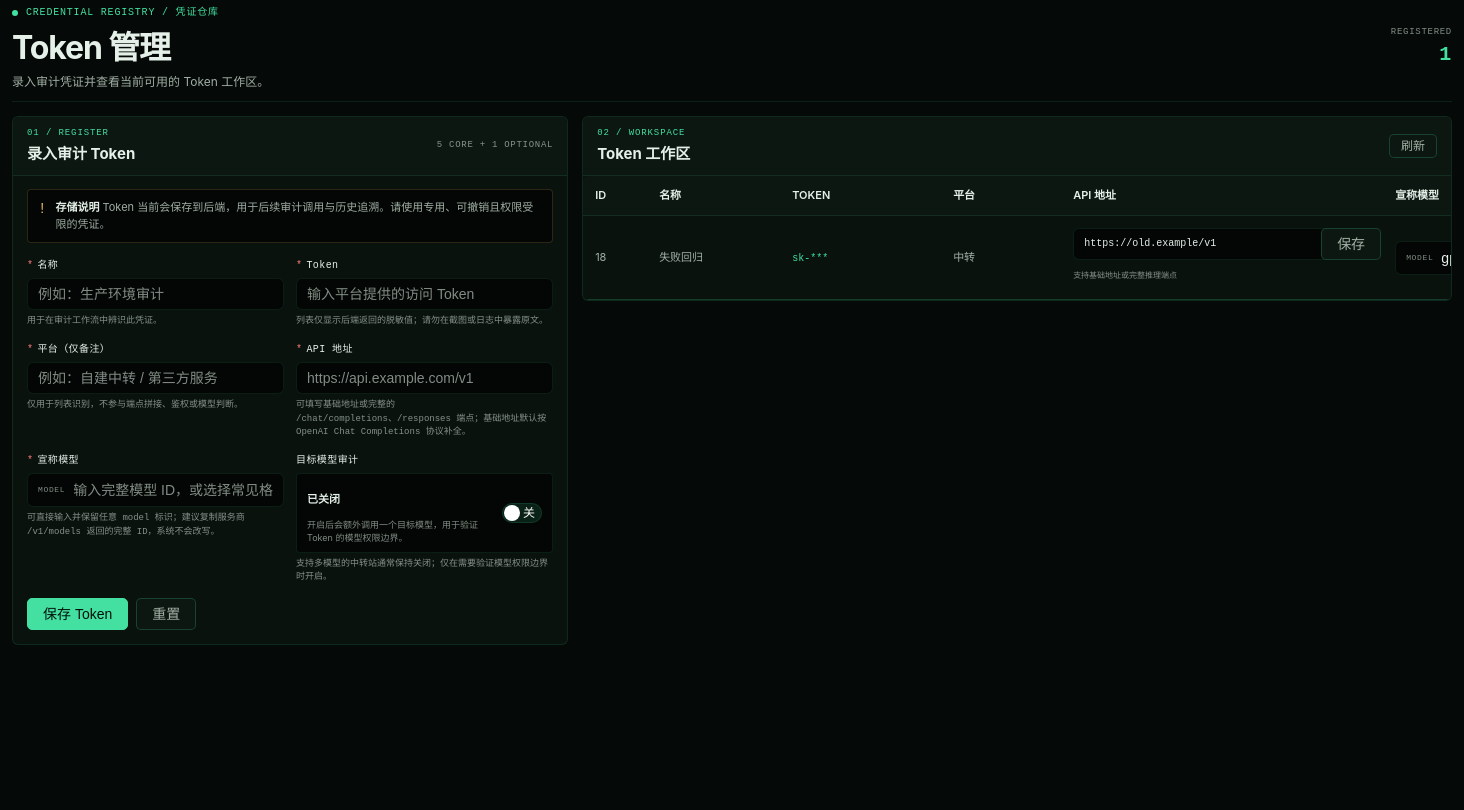
TokenManager › restores the previous API URL when an update fails
Replace the text in the 1st field with "https://new.example/v1". click: [1202, 244]
box: [1084, 229, 1320, 259]
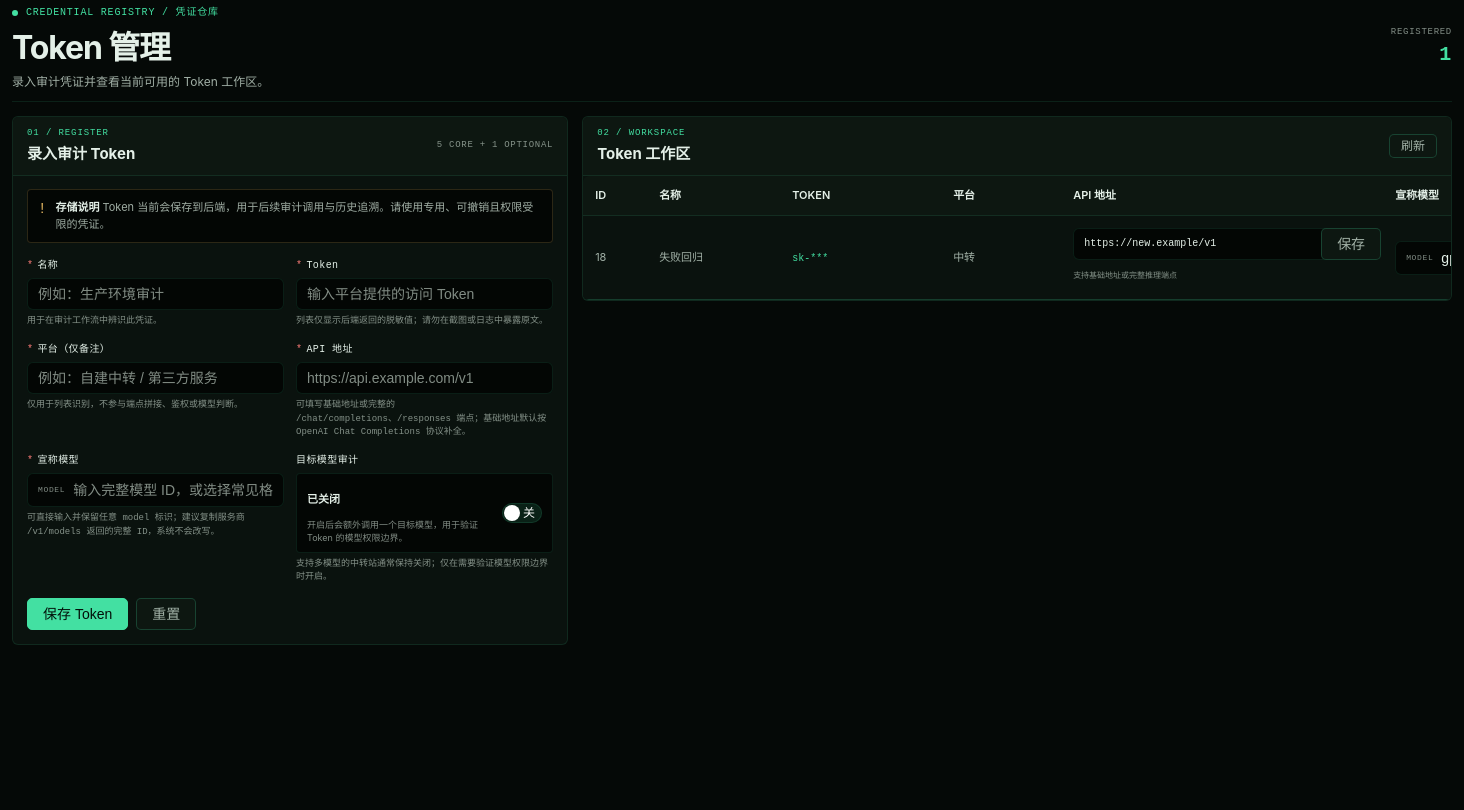
Click the button "保存". click: [1351, 244]
box: [1321, 228, 1381, 260]
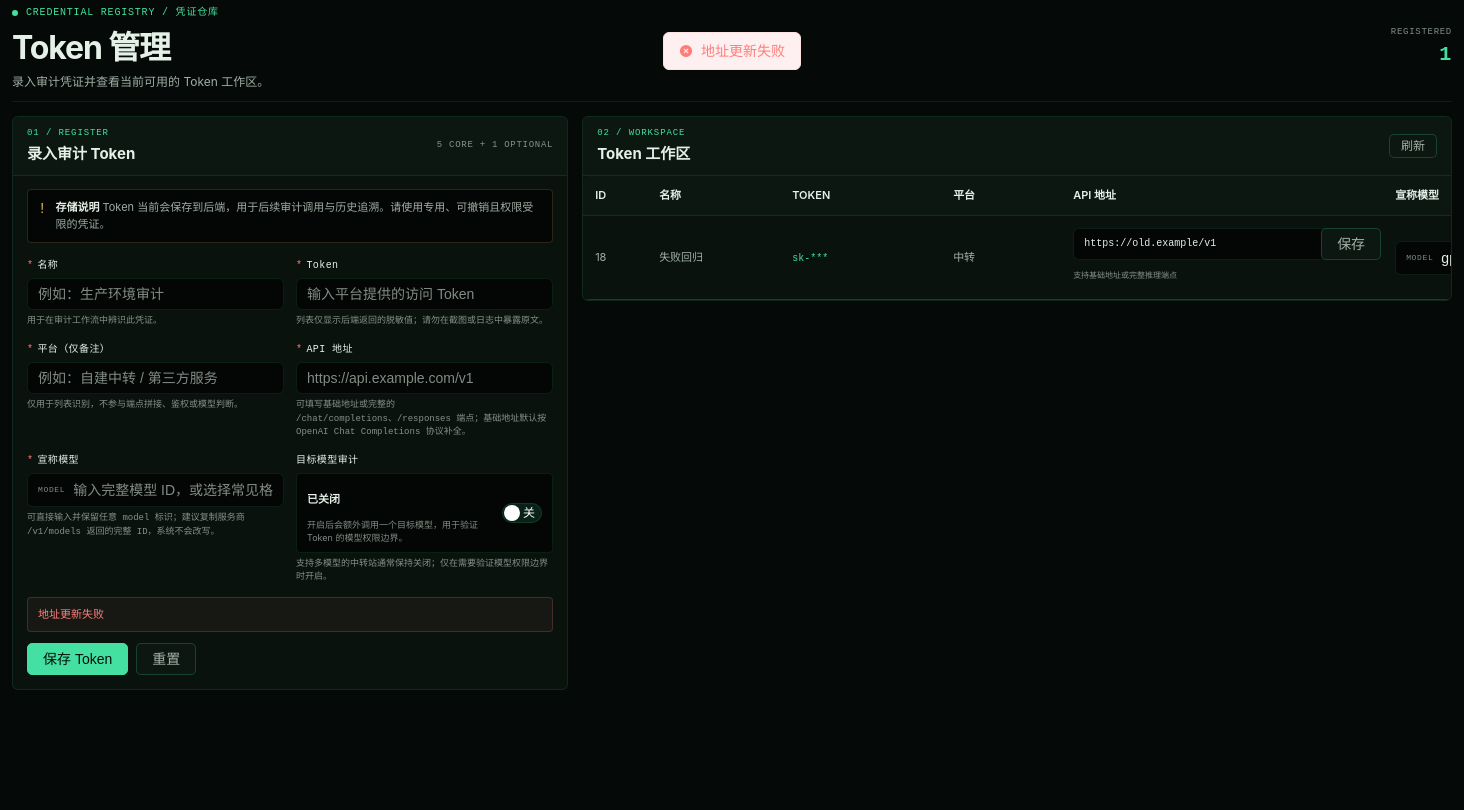
Check: the 1st field holds "https://old.example/v1", box [1084, 229, 1320, 259]
Check: the message with test id "operation-error" reads "地址更新失败", box [38, 608, 104, 622]
